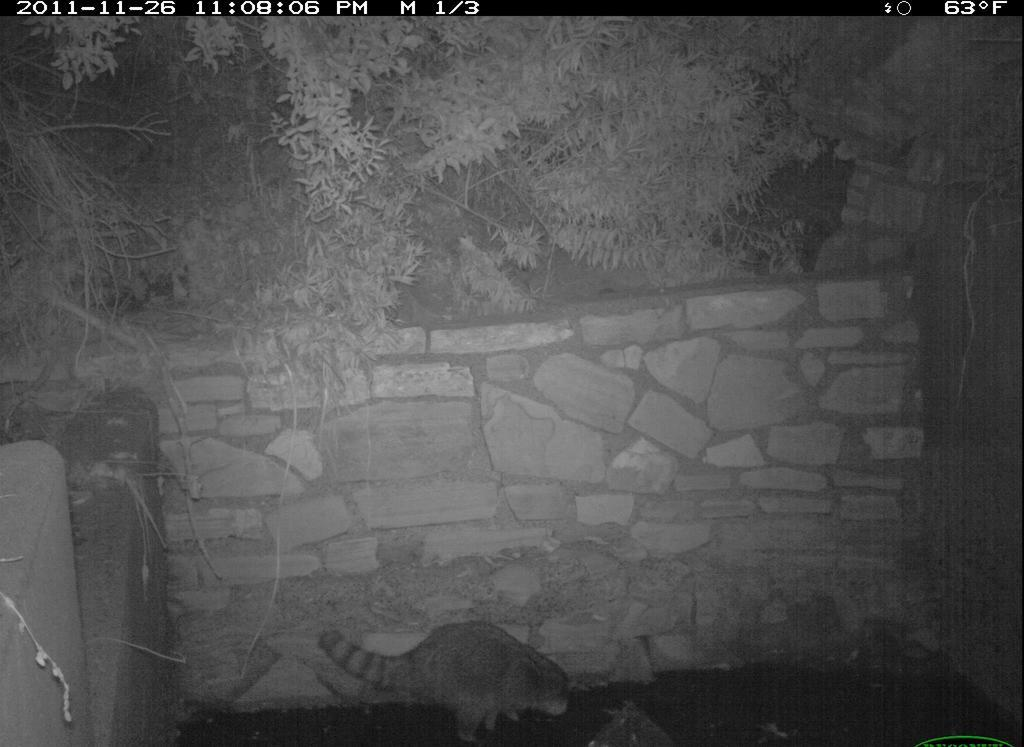raccoon: (314, 621, 597, 745)
